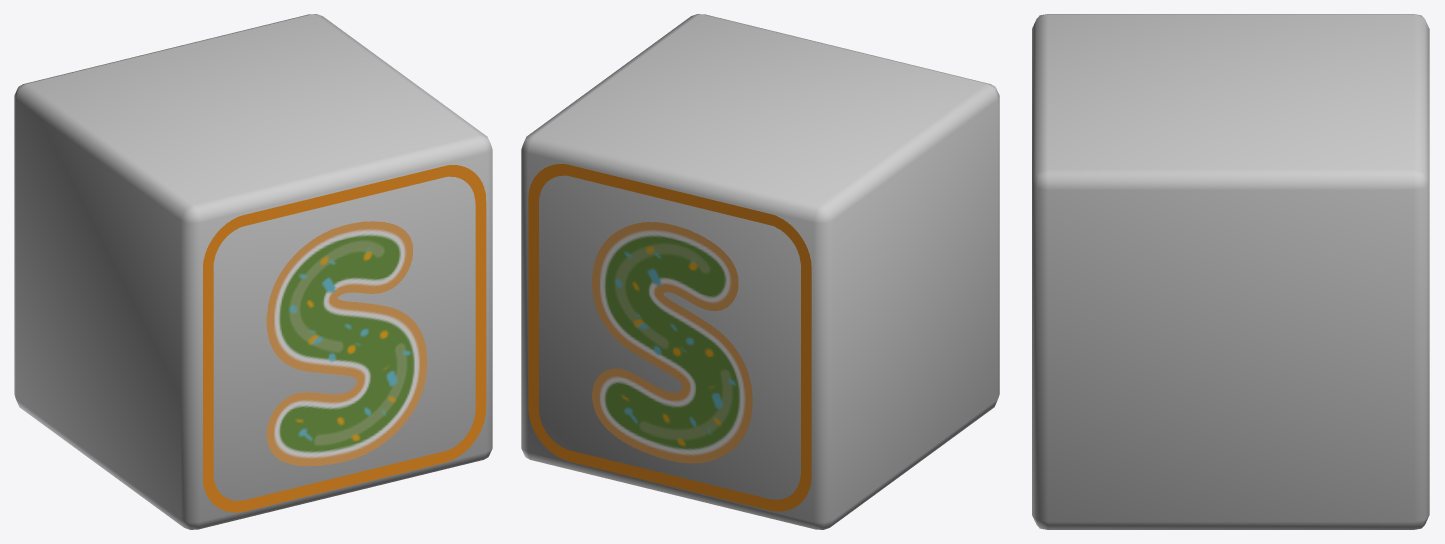
Rendered from Child_Cube_S.FBX.
3 views of the same model, side by side, from view 1: azimuth 30°, elevation 25°; view 2: azimuth 150°, elevation 25°; view 3: azimuth 270°, elevation 25° (orthographic). The views are drawn at different scales.
Parts seen in each view (by area): view 1: Child_Cube_S; view 2: Child_Cube_S; view 3: Child_Cube_S.
Part boxes in pixels (x1,y1,x2,y2): Child_Cube_S: (14,14,492,529); Child_Cube_S: (521,14,999,529); Child_Cube_S: (1032,14,1429,529).
Bounding box in the file's own units: 0.2122 × 0.2122 × 0.2149.
